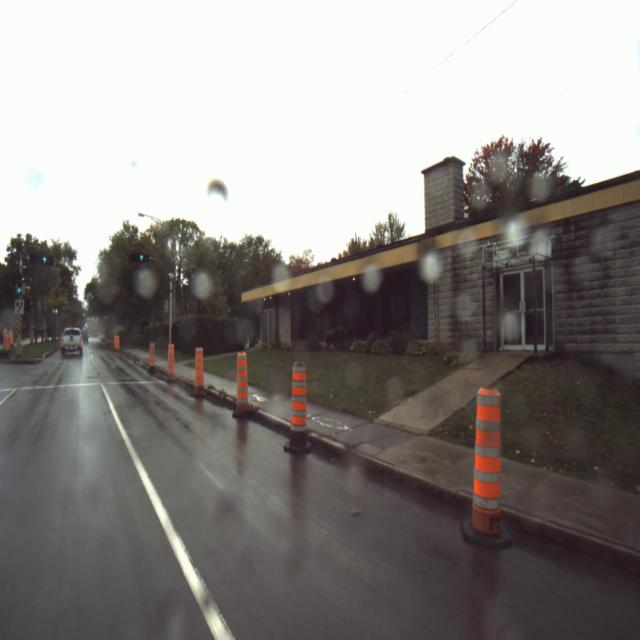car: (60, 327, 82, 359)
trafficLight-Green: (15, 285, 24, 296), (138, 252, 145, 263), (42, 255, 48, 265)
